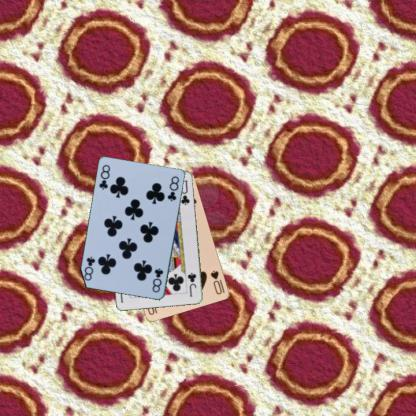10s: (208, 267, 226, 296)
8c: (96, 162, 112, 191), (150, 266, 164, 294)
Jc: (185, 271, 197, 298)
